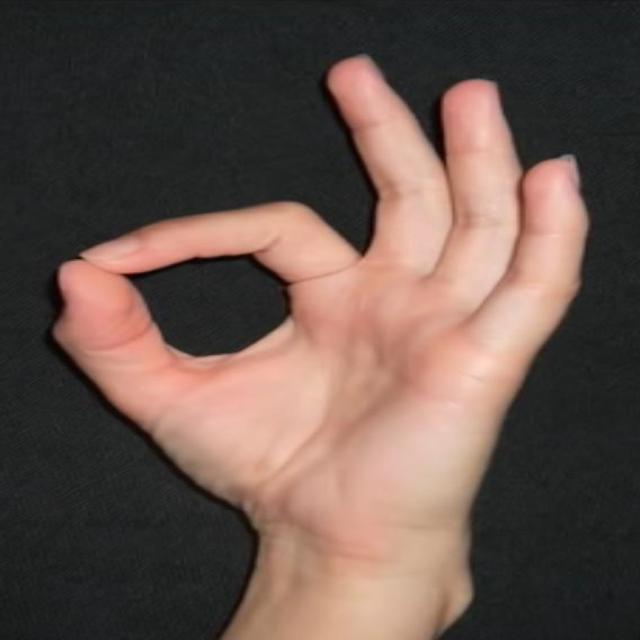F: (42, 47, 596, 526)
